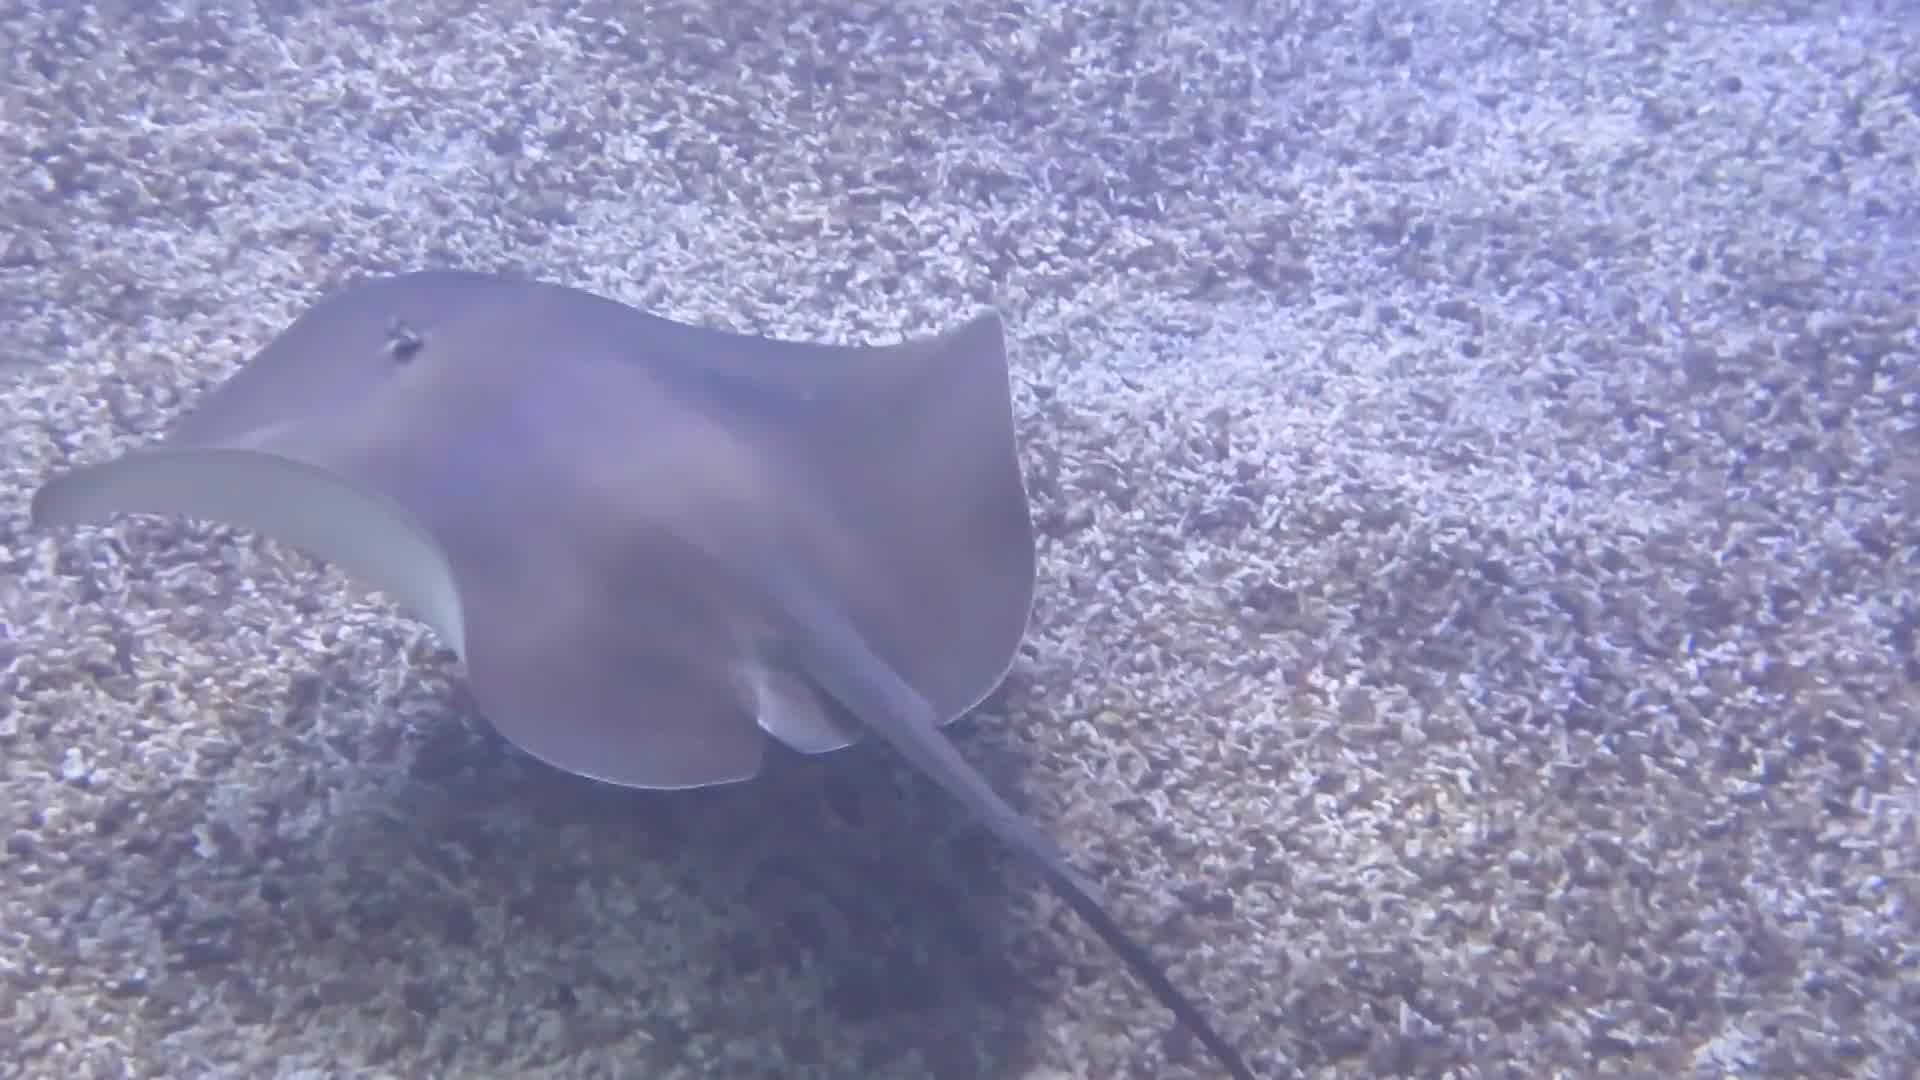Dasyatis akajei: (1, 215, 1283, 1080)
